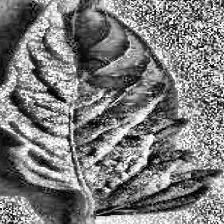spider mites: (0, 0, 221, 209)
